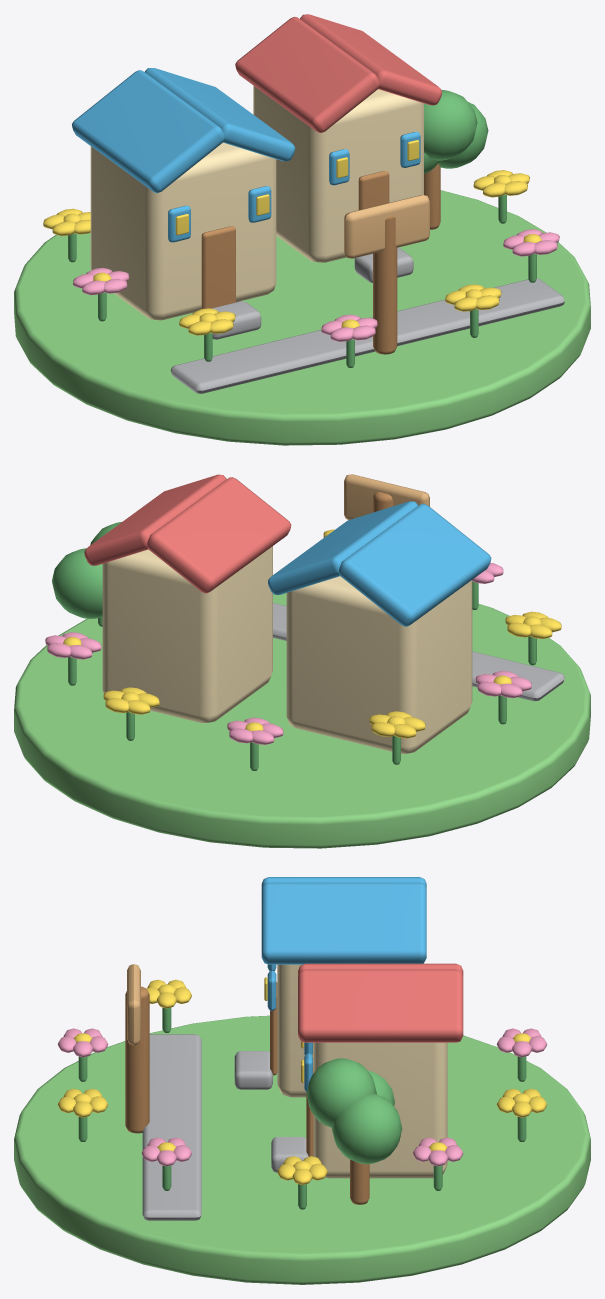
Rendered from region_village.glb.
3 renders of one model, top to bottom at view 1: azimuth 30°, elevation 25°; view 2: azimuth 150°, elevation 25°; view 3: azimuth 270°, elevation 25°, orthographic.
Parts seen in each view (by area): view 1: round grassy plot, rounded plaster walls, rounded plaster walls.001, village walkway, overlapping roof tiles, overlapping roof tiles.002, overlapping roof tiles.001, overlapping roof tiles.003, village board, rounded foliage, post, arched entry.001 (+6 smaller); view 2: round grassy plot, rounded plaster walls, rounded plaster walls.001, overlapping roof tiles, overlapping roof tiles.002, overlapping roof tiles.001, overlapping roof tiles.003, rounded foliage.002, village walkway, village board; view 3: round grassy plot, overlapping roof tiles.001, overlapping roof tiles.003, rounded plaster walls.001, village walkway, rounded foliage.002, rounded plaster walls, rounded foliage, post, stone threshold, overlapping roof tiles.002, village board (+4 smaller).
Boxes of the visible parts, box(x1,y1,x2,y2) form: round grassy plot: box(14, 190, 590, 445); rounded plaster walls: box(90, 142, 276, 320); rounded plaster walls.001: box(253, 85, 423, 262); village walkway: box(170, 278, 564, 393); overlapping roof tiles: box(72, 70, 223, 192); overlapping roof tiles.002: box(235, 16, 379, 132); overlapping roof tiles.001: box(145, 68, 295, 161); overlapping roof tiles.003: box(300, 14, 442, 105); village board: box(344, 195, 429, 258); rounded foliage: box(424, 90, 477, 160); post: box(373, 215, 397, 354); arched entry.001: box(201, 226, 235, 308); round grassy plot: box(14, 593, 590, 848); rounded plaster walls: box(286, 576, 472, 753); rounded plaster walls.001: box(102, 546, 272, 723); overlapping roof tiles: box(339, 503, 491, 626); overlapping roof tiles.002: box(147, 477, 291, 593); overlapping roof tiles.001: box(268, 501, 418, 594); overlapping roof tiles.003: box(84, 474, 226, 565); rounded foliage.002: box(52, 548, 102, 618); village walkway: box(273, 602, 564, 701); village board: box(344, 474, 429, 520); round grassy plot: box(14, 1015, 590, 1284); overlapping roof tiles.001: box(261, 882, 426, 964); overlapping roof tiles.003: box(298, 969, 463, 1042); rounded plaster walls.001: box(313, 1042, 447, 1178); village walkway: box(142, 1034, 201, 1220); rounded foliage.002: box(332, 1093, 402, 1164); rounded plaster walls: box(277, 964, 313, 1097); rounded foliage: box(306, 1058, 376, 1127); post: box(125, 986, 149, 1133); stone threshold: box(234, 1051, 272, 1089); overlapping roof tiles.002: box(298, 963, 463, 975); village board: box(127, 964, 140, 1045).
Size of the model in its own units: 3.32 by 1.5 by 3.32.
